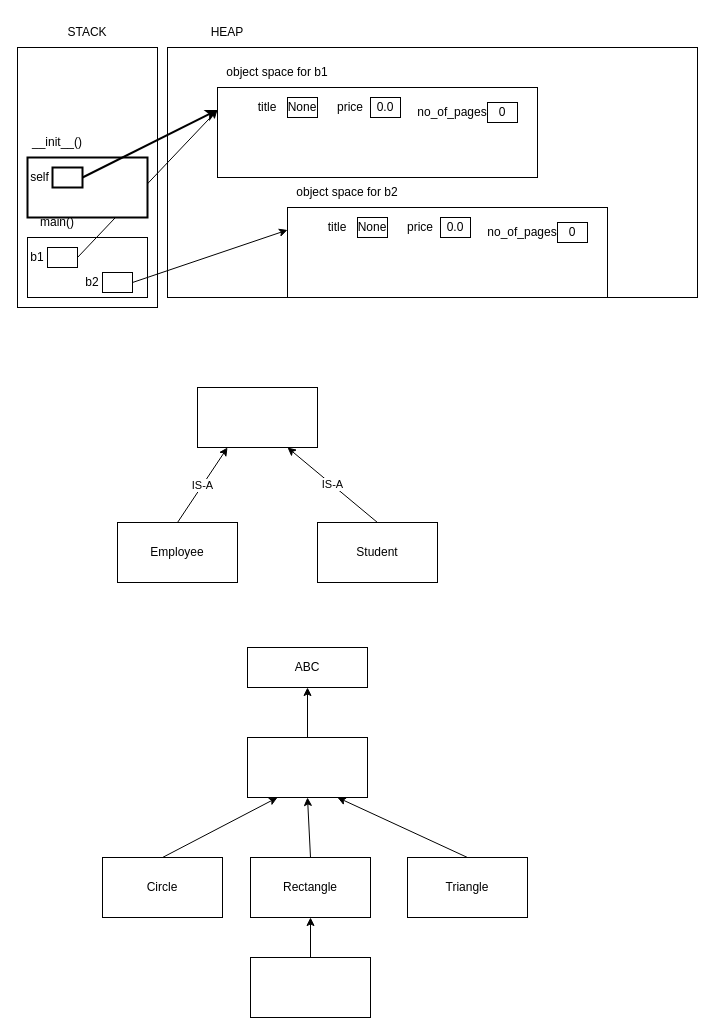
Image size: 715x1035. Some labels were removed from this diagram. Here are the shapes that lost their labels. From the top down, the box of each, then its label:
(196, 386, 318, 448): Person
(246, 736, 368, 798): (interface or abstract class) Shape
(250, 956, 370, 1018): Square
